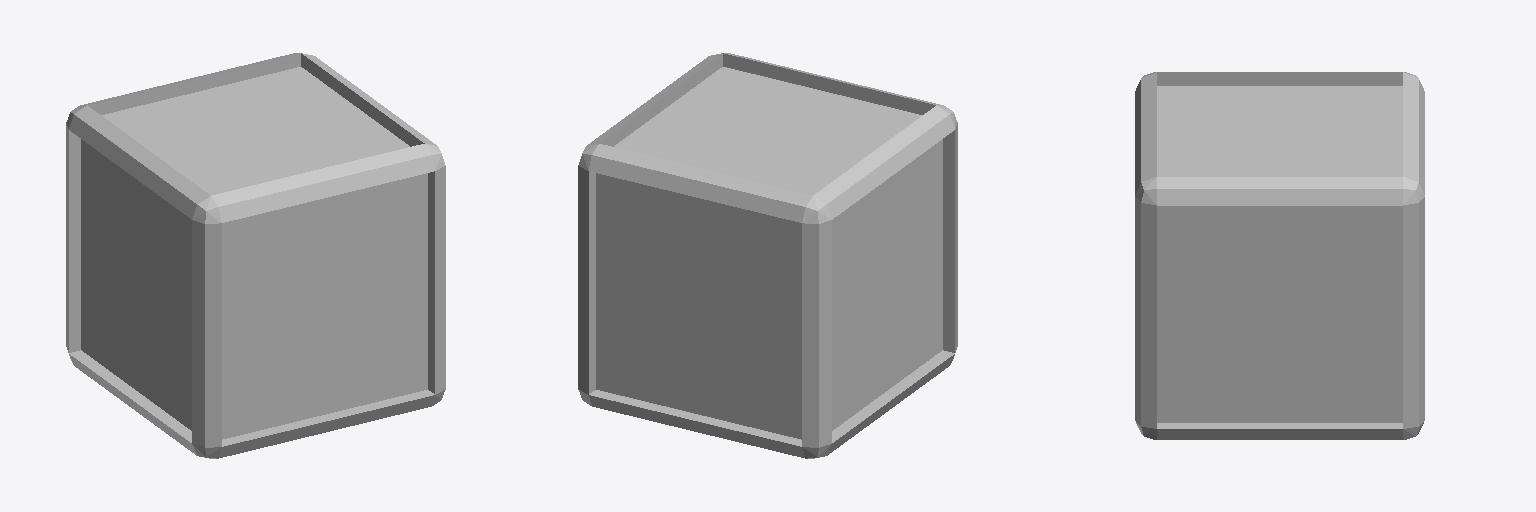
The model's file is Kostka.obj.
The picture shows the model from 3 angles: view 1: azimuth 30°, elevation 25°; view 2: azimuth 150°, elevation 25°; view 3: azimuth 270°, elevation 25°; orthographic projection.
Parts seen in each view (by area): view 1: Cube.003_Cube.010, Cube.006, Cube.004_Cube.011; view 2: Cube.002_Cube.009, Cube.006, Cube.004_Cube.011; view 3: Cube.001_Cube.008, Cube.004_Cube.011, Cube.002_Cube.009, Cube.003_Cube.010.
Part boxes in pixels (left/top/right/bottom): Cube.003_Cube.010: left=205, top=154, right=445, bottom=458; Cube.006: left=66, top=112, right=205, bottom=457; Cube.004_Cube.011: left=71, top=53, right=441, bottom=210; Cube.002_Cube.009: left=578, top=154, right=818, bottom=458; Cube.006: left=818, top=112, right=957, bottom=457; Cube.004_Cube.011: left=582, top=53, right=952, bottom=210; Cube.001_Cube.008: left=1141, top=189, right=1418, bottom=439; Cube.004_Cube.011: left=1141, top=72, right=1418, bottom=189; Cube.002_Cube.009: left=1416, top=80, right=1424, bottom=435; Cube.003_Cube.010: left=1135, top=80, right=1143, bottom=435.
Bounding box in the file's own units: 2 × 2 × 2.